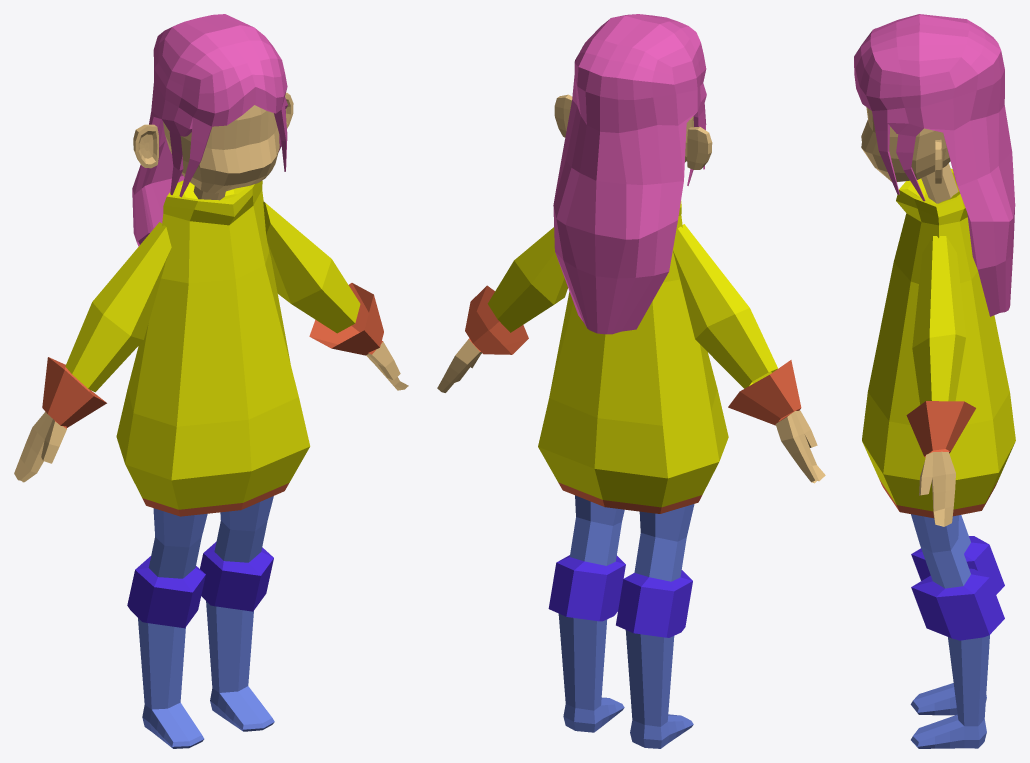
The model's file is newmodel.fbx.
The picture shows the model from 3 angles, left to right: view 1: azimuth 30°, elevation 25°; view 2: azimuth 150°, elevation 25°; view 3: azimuth 270°, elevation 25°; orthographic projection.
Parts seen in each view (by area): view 1: Cube, Cylinder, Cylinder.001, Cube.003, Cube.001, Cube.002; view 2: Cube.003, Cube, Cylinder, Cylinder.001, Cube.002; view 3: Cube.003, Cube, Cylinder, Cylinder.001, Cube.001, Cylinder.002, Cube.002.
Boxes of the visible parts, bbox=[...] form: Cube: bbox=[116, 180, 310, 516]; Cylinder: bbox=[127, 496, 274, 748]; Cylinder.001: bbox=[14, 201, 408, 482]; Cube.003: bbox=[132, 14, 287, 246]; Cube.001: bbox=[163, 105, 279, 193]; Cube.002: bbox=[133, 92, 293, 168]; Cube.003: bbox=[553, 14, 706, 334]; Cube: bbox=[538, 201, 728, 513]; Cylinder: bbox=[548, 495, 694, 748]; Cylinder.001: bbox=[437, 224, 825, 483]; Cube.002: bbox=[554, 94, 712, 169]; Cube.003: bbox=[854, 14, 1015, 316]; Cube: bbox=[862, 168, 1015, 518]; Cylinder: bbox=[910, 514, 1004, 748]; Cylinder.001: bbox=[906, 236, 975, 526]; Cube.001: bbox=[861, 107, 950, 182]; Cylinder.002: bbox=[921, 163, 958, 203]; Cube.002: bbox=[935, 139, 942, 183].
Size of the model in its own units: 214 by 372 by 77.75.
